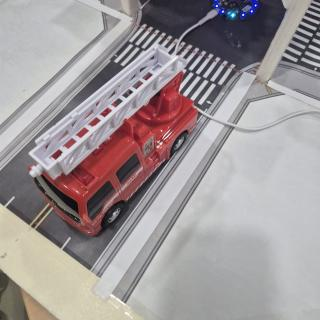Fire_truck: (28, 44, 198, 236)
